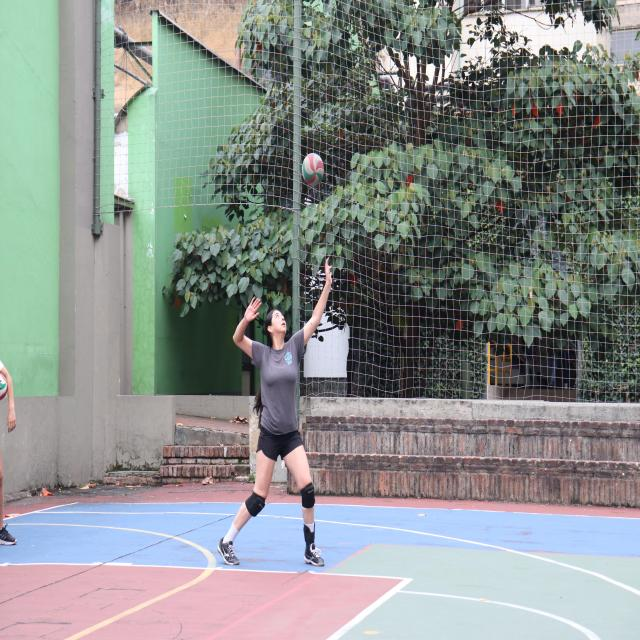volleyball: (302, 153, 324, 187)
